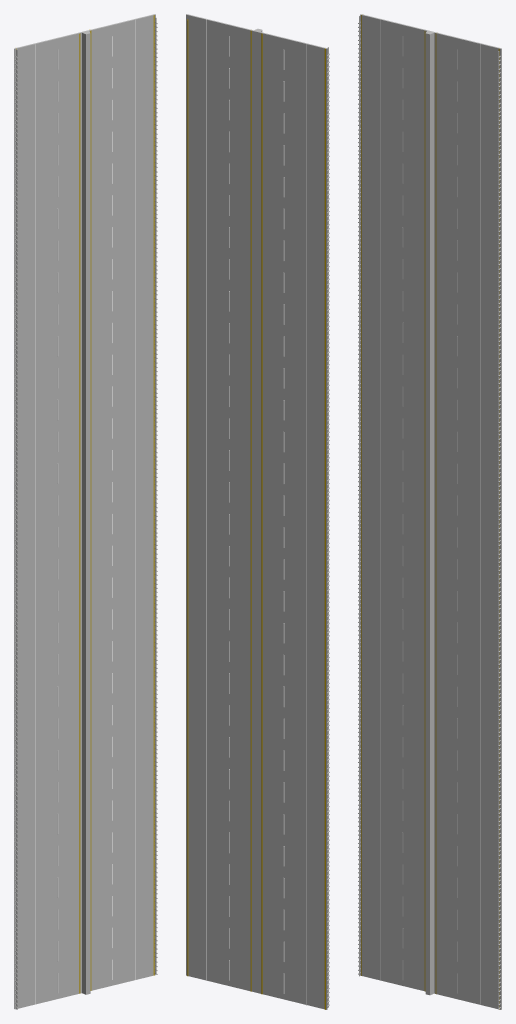
File: Highway_col.obj
The picture shows the model from 3 angles, left to right: view 1: azimuth 30°, elevation 25°; view 2: azimuth 150°, elevation 25°; view 3: azimuth 330°, elevation 25°; orthographic projection.
Visible parts, largest first — view 1: Highway_Cube, Central_Piece_Cube.001, Central_Yellow_2_Cube.002, Central_Yellow_1_Cube.013, RIght_Yellow_Line_Cube.003, Right_Side_Bar_Cylinder.069, Left_Side_Bar_Cylinder.070, Left_Cylinder_Bar_Cylinder.000, Left_Dashed_Lline_Cube.046, Left_Most_Straight_Line_Cube.011, Righ_Most_Straight_line_Cube.004, Right_Cylinde_Bar_Cylinder.085 (+1 smaller); view 2: Highway_Cube, Central_Yellow_1_Cube.013, Central_Yellow_2_Cube.002, Left_Yellow_Line_Cube.012, RIght_Yellow_Line_Cube.003, Left_Side_Bar_Cylinder.070, Left_Dashed_Lline_Cube.046, Left_Cylinder_Bar_Cylinder.000, Left_Most_Straight_Line_Cube.011, Righ_Most_Straight_line_Cube.004, Right_Dashed_Line_Cube.037; view 3: Highway_Cube, Central_Piece_Cube.001, Left_Side_Bar_Cylinder.070, Central_Yellow_2_Cube.002, Central_Yellow_1_Cube.013, Right_Side_Bar_Cylinder.069, Right_Cylinde_Bar_Cylinder.085, Left_Dashed_Lline_Cube.046, Left_Most_Straight_Line_Cube.011, Righ_Most_Straight_line_Cube.004, Left_Yellow_Line_Cube.012, Left_Cylinder_Bar_Cylinder.000 (+2 smaller).
Part boxes in pixels (bbox=[...]): Highway_Cube: bbox=[14, 14, 155, 1009]; Central_Piece_Cube.001: bbox=[82, 31, 90, 994]; Central_Yellow_2_Cube.002: bbox=[89, 29, 91, 990]; Central_Yellow_1_Cube.013: bbox=[79, 33, 80, 993]; RIght_Yellow_Line_Cube.003: bbox=[153, 15, 154, 975]; Right_Side_Bar_Cylinder.069: bbox=[155, 17, 156, 974]; Left_Side_Bar_Cylinder.070: bbox=[16, 49, 17, 1009]; Left_Cylinder_Bar_Cylinder.000: bbox=[14, 56, 17, 1008]; Left_Dashed_Lline_Cube.046: bbox=[57, 49, 58, 993]; Left_Most_Straight_Line_Cube.011: bbox=[35, 44, 35, 1004]; Righ_Most_Straight_line_Cube.004: bbox=[135, 20, 135, 979]; Right_Cylinde_Bar_Cylinder.085: bbox=[155, 22, 157, 974]; Highway_Cube: bbox=[186, 14, 327, 1009]; Central_Yellow_1_Cube.013: bbox=[261, 33, 262, 994]; Central_Yellow_2_Cube.002: bbox=[250, 30, 251, 991]; Left_Yellow_Line_Cube.012: bbox=[324, 48, 325, 1009]; RIght_Yellow_Line_Cube.003: bbox=[187, 19, 188, 976]; Left_Side_Bar_Cylinder.070: bbox=[327, 47, 328, 1007]; Left_Dashed_Lline_Cube.046: bbox=[283, 49, 284, 993]; Left_Cylinder_Bar_Cylinder.000: bbox=[327, 53, 329, 1006]; Left_Most_Straight_Line_Cube.011: bbox=[306, 44, 306, 1005]; Righ_Most_Straight_line_Cube.004: bbox=[206, 19, 206, 980]; Right_Dashed_Line_Cube.037: bbox=[229, 36, 229, 980]; Highway_Cube: bbox=[360, 14, 501, 1009]; Central_Piece_Cube.001: bbox=[425, 31, 434, 995]; Left_Side_Bar_Cylinder.070: bbox=[359, 15, 360, 976]; Central_Yellow_2_Cube.002: bbox=[435, 33, 436, 993]; Central_Yellow_1_Cube.013: bbox=[424, 31, 425, 991]; Right_Side_Bar_Cylinder.069: bbox=[498, 51, 499, 1008]; Right_Cylinde_Bar_Cylinder.085: bbox=[498, 55, 500, 1009]; Left_Dashed_Lline_Cube.046: bbox=[402, 36, 403, 979]; Left_Most_Straight_Line_Cube.011: bbox=[380, 18, 381, 980]; Righ_Most_Straight_line_Cube.004: bbox=[480, 44, 480, 1004]; Left_Yellow_Line_Cube.012: bbox=[361, 15, 361, 975]; Left_Cylinder_Bar_Cylinder.000: bbox=[358, 22, 360, 974].
Bounding box in the file's own units: 23.18 × 151 × 1.12.
